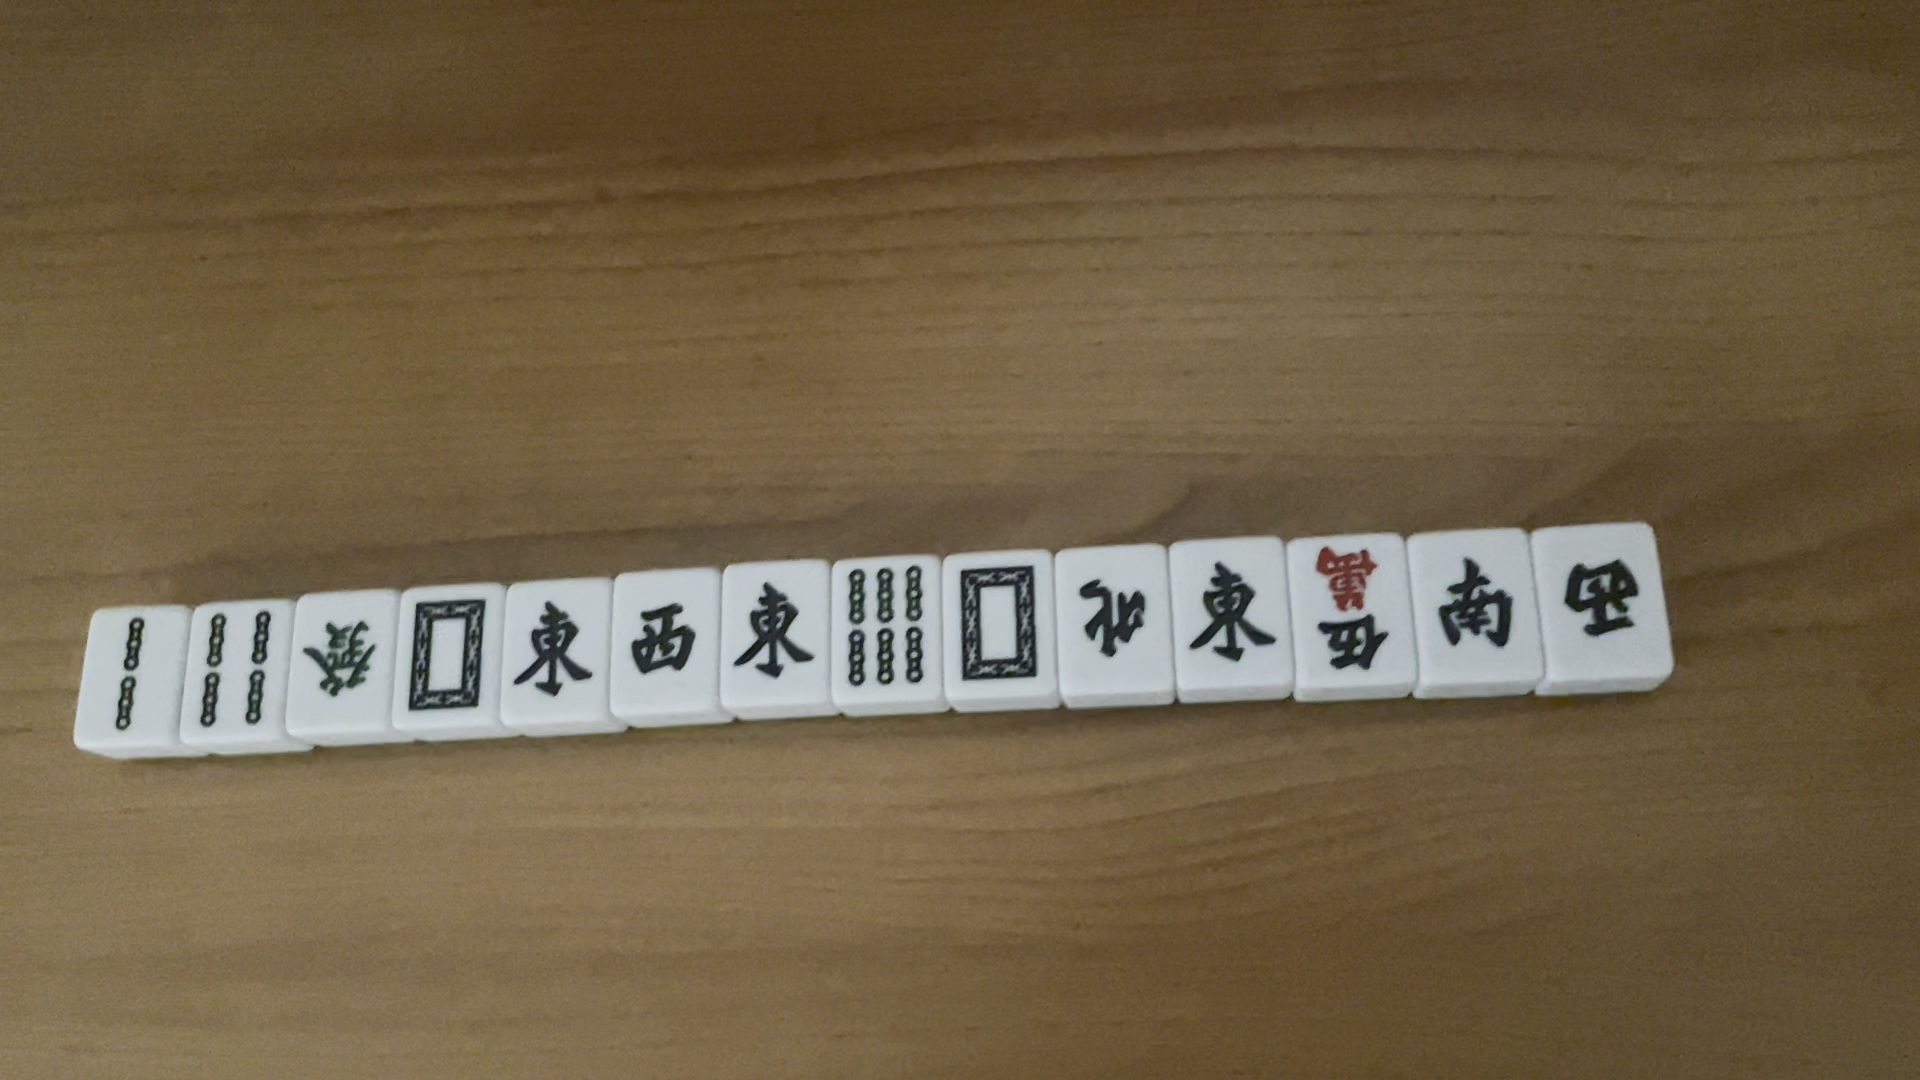b-2: (105, 615, 148, 738)
b-4: (190, 608, 276, 733)
b-6: (839, 560, 935, 688)
c-5: (1304, 543, 1394, 676)
honors-east: (1180, 558, 1276, 669), (506, 597, 596, 705), (728, 579, 818, 687)
honors-green: (297, 617, 377, 702)
honors-north: (1062, 574, 1156, 665)
honors-south: (1431, 554, 1526, 659)
honors-west: (1557, 546, 1644, 641), (622, 593, 699, 688)
honors-white: (947, 556, 1044, 688), (400, 593, 491, 717)
